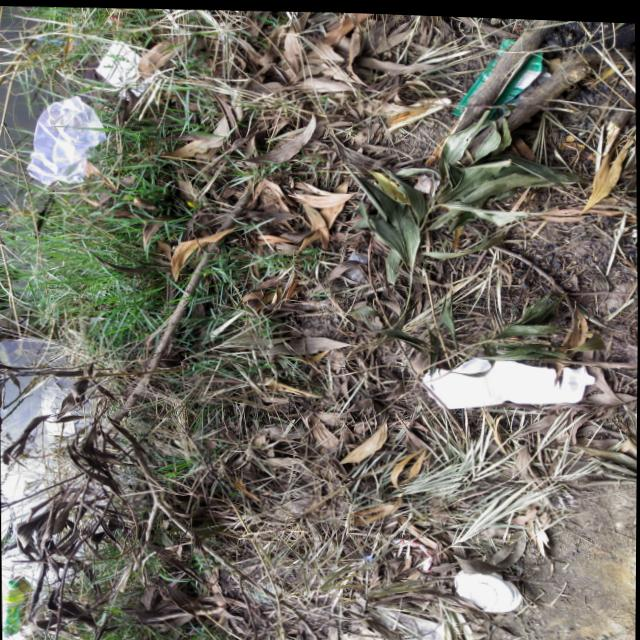Paper: (90, 31, 160, 103), (362, 603, 450, 640)
Plastic: (416, 342, 600, 412), (8, 89, 122, 193), (446, 26, 547, 123), (449, 560, 527, 611)
